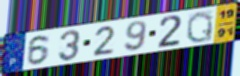2: (156, 14, 184, 49), (94, 25, 117, 57)
3: (56, 29, 81, 62)
6: (26, 34, 52, 66)
9: (123, 19, 148, 53)
Q: (185, 10, 215, 44)
